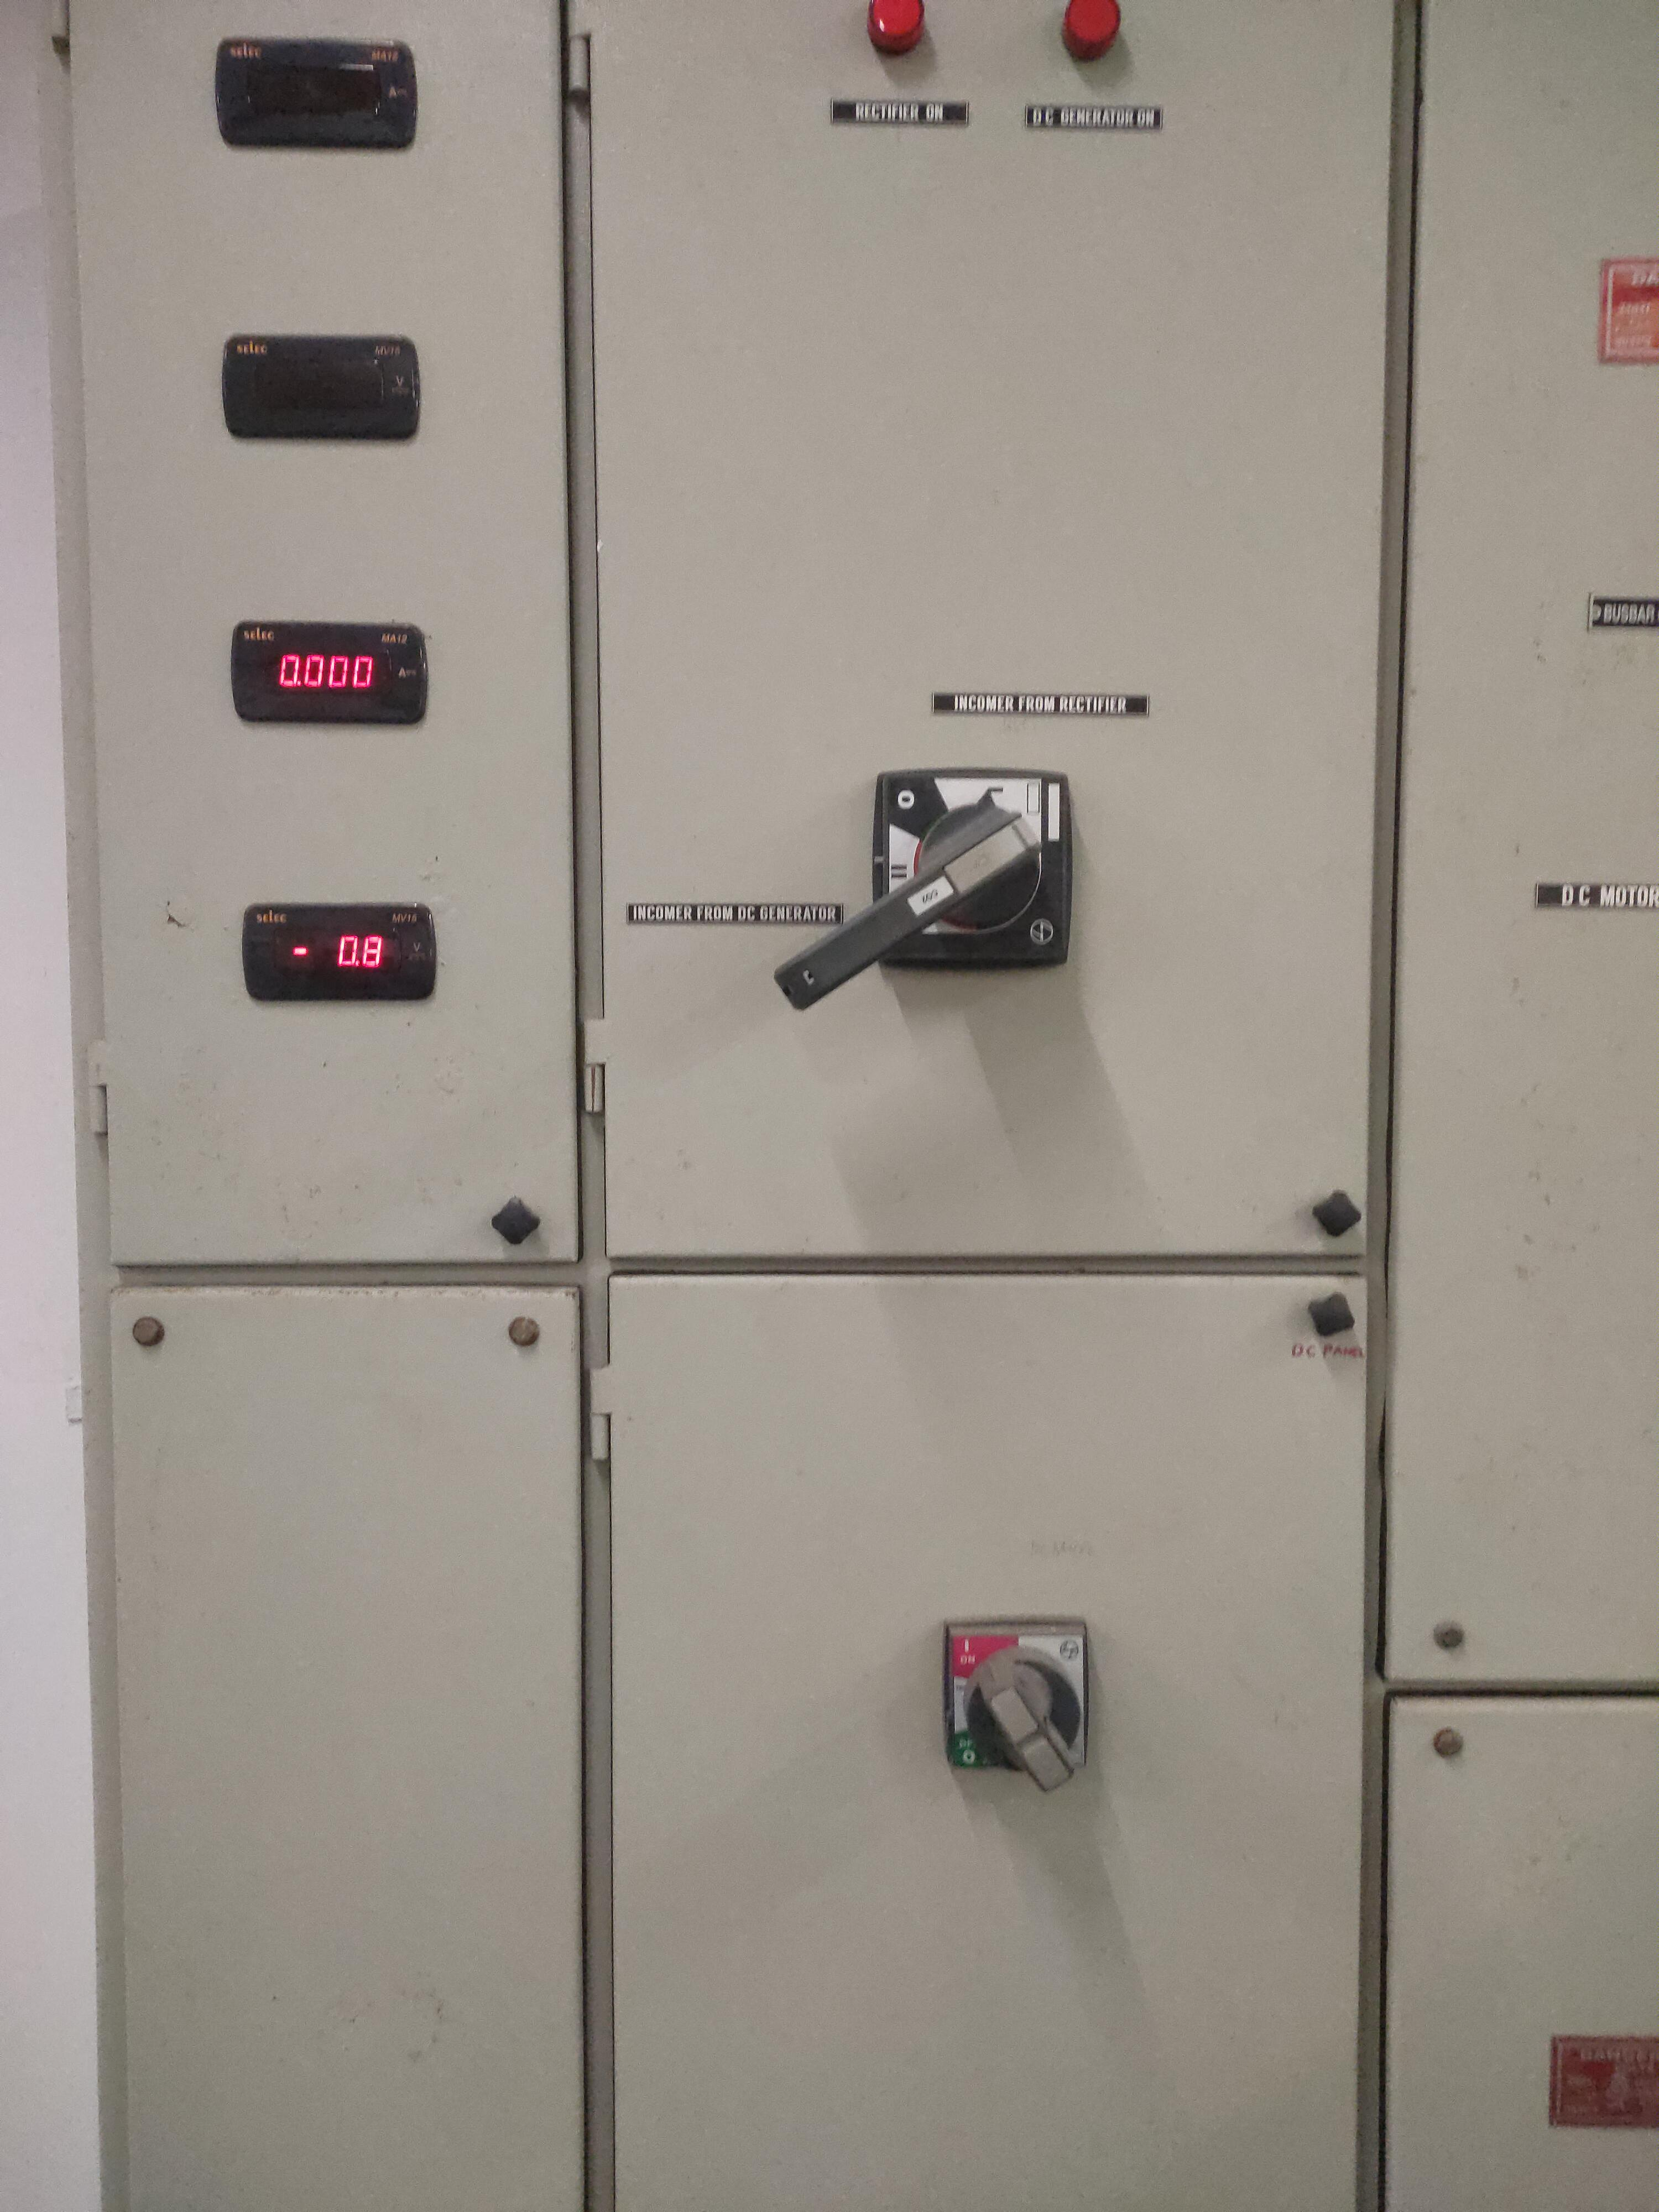Knob 1: (746, 737, 1098, 1022)
Knob 2: (913, 1581, 1129, 1811)
Light Indications: (781, 0, 1190, 136)
